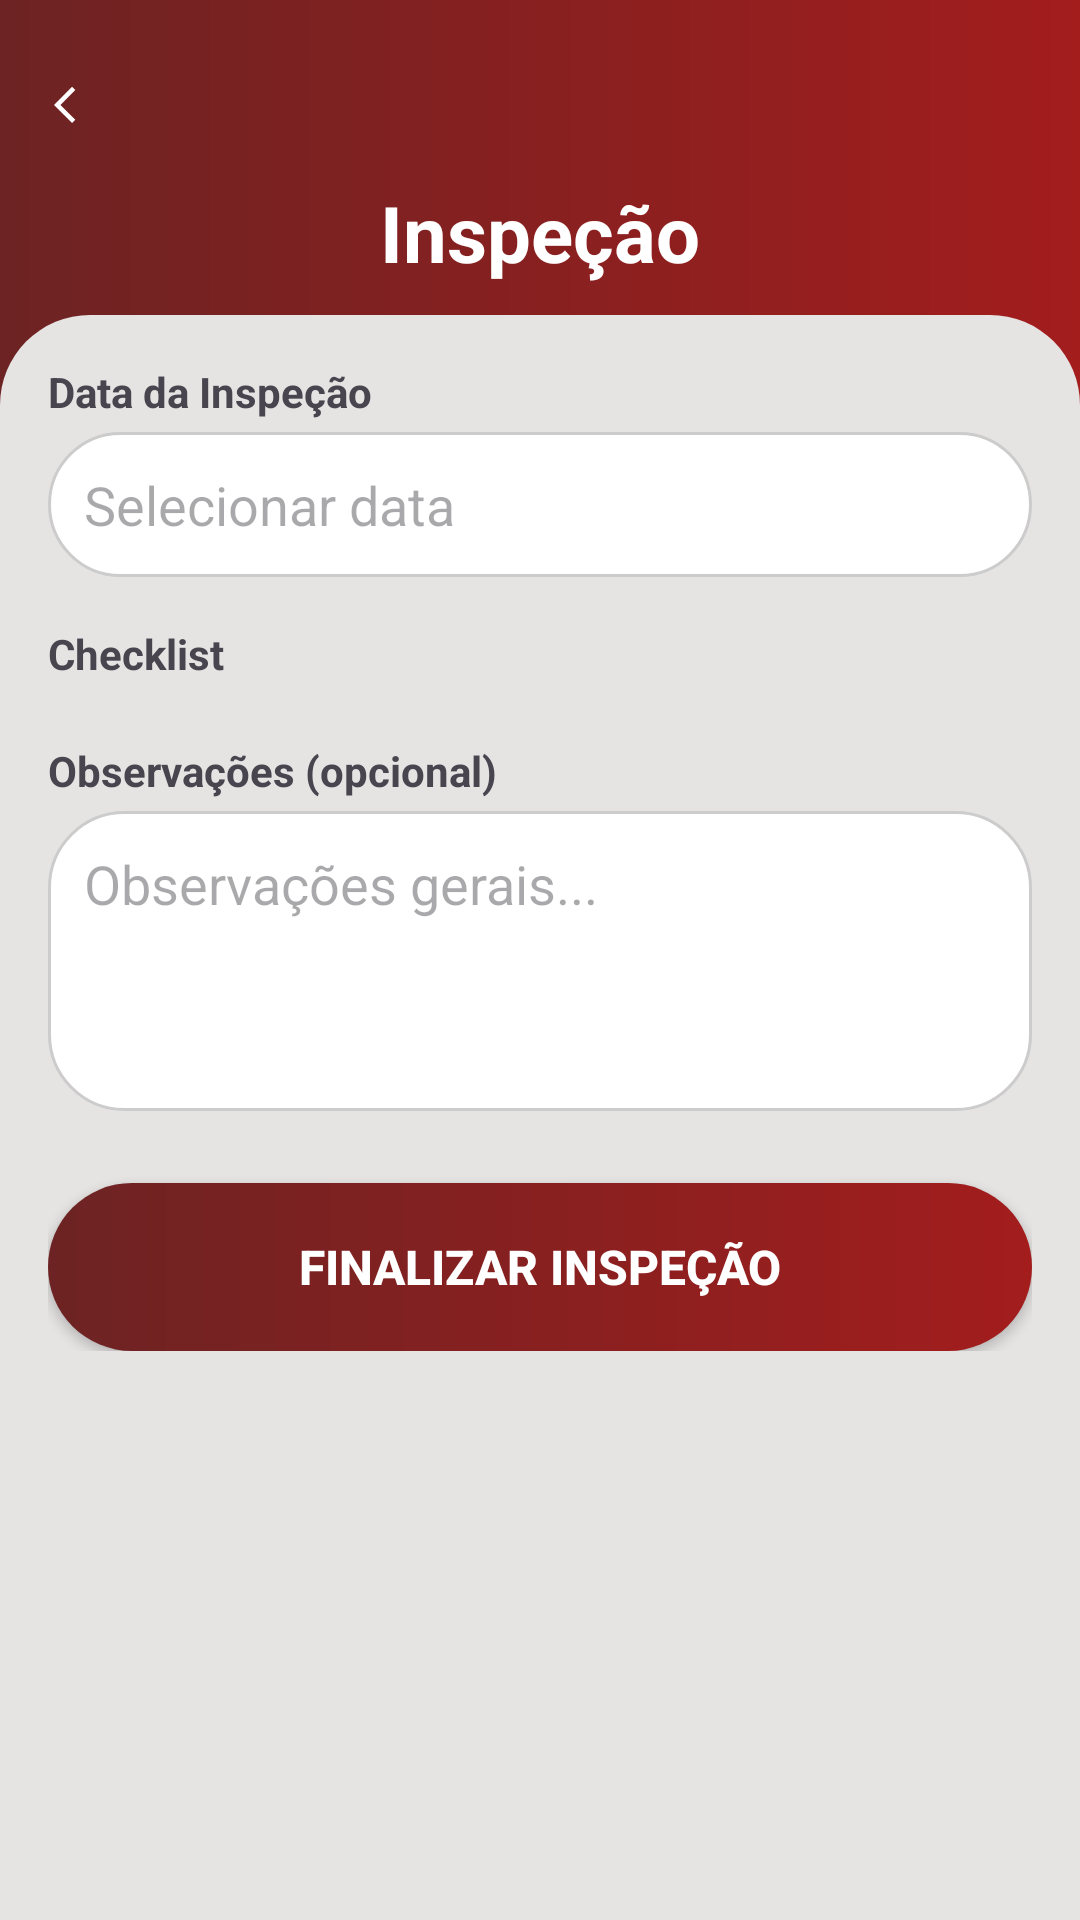

Icon click points for this 1080px×1920px phone screenshot, format (x=x, y=y):
arrow left: (x=64, y=105)
